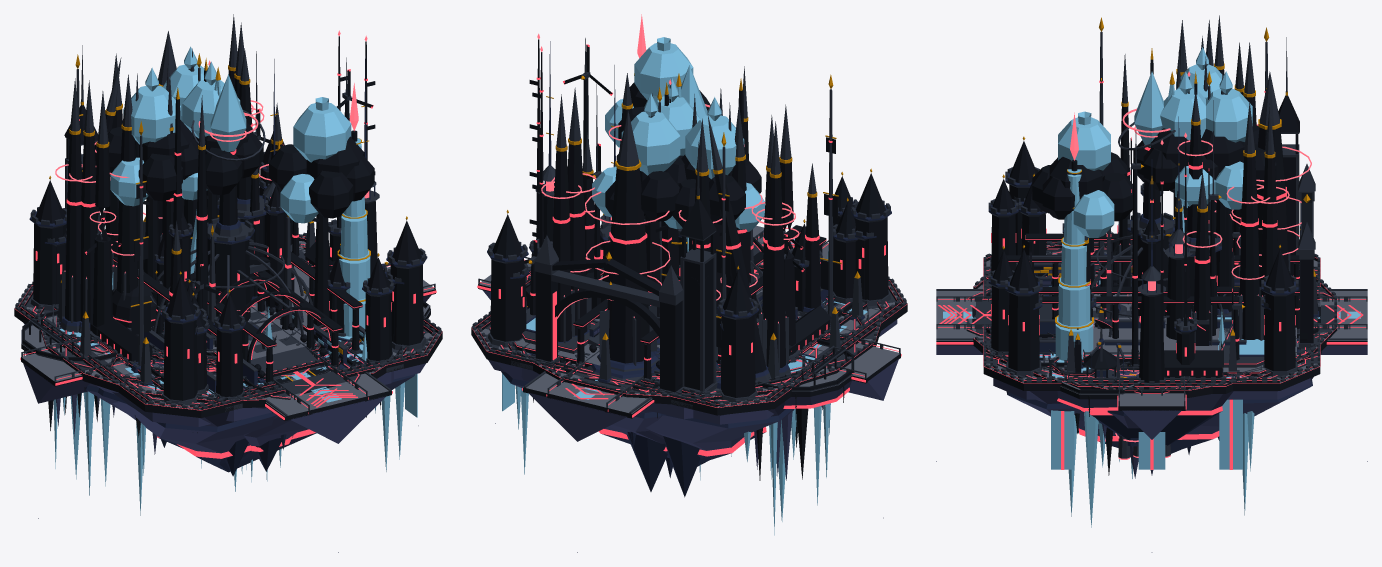
Rendered from SC_RECOLOR_LOCKDOWN.fbx.
The picture shows the model from 3 angles, left to right: view 1: azimuth 30°, elevation 25°; view 2: azimuth 150°, elevation 25°; view 3: azimuth 270°, elevation 25°; orthographic projection. The views are drawn at different scales.
Visible parts, largest first — view 1: chunk_spire_court__lockdown, chunk_sky_tree_grove__lockdown, chunk_boss_clearing__lockdown, chunk_path_colonnade__lockdown, chunk_aether_springs__lockdown, chunk_parade_ground__lockdown, chunk_spire_court_b__lockdown, chunk_path_straight__lockdown, chunk_side_garden__lockdown, chunk_archive__lockdown, chunk_entry__lockdown, chunk_garden_terrace__lockdown (+19 smaller); view 2: chunk_spire_court__lockdown, chunk_boss_clearing__lockdown, chunk_garden_terrace__lockdown, chunk_archive__lockdown, chunk_sky_tree_grove__lockdown, chunk_parade_ground__lockdown, chunk_path_colonnade__lockdown, chunk_armory__lockdown, chunk_spire_court_b__lockdown, chunk_aether_springs__lockdown, chunk_path_long_span__lockdown, chunk_entry__lockdown (+14 smaller); view 3: chunk_spire_court__lockdown, chunk_boss_clearing__lockdown, chunk_aether_springs__lockdown, chunk_garden_terrace__lockdown, chunk_sky_tree_grove__lockdown, chunk_armory__lockdown, chunk_archive__lockdown, chunk_parade_ground__lockdown, chunk_side_garden__lockdown, chunk_spire_court_b__lockdown, chunk_crossroads__lockdown, chunk_path_bend_west__lockdown (+17 smaller).
Part boxes in pixels (x1,y1,x2,y2): chunk_spire_court__lockdown: (14,22,442,472); chunk_sky_tree_grove__lockdown: (107,67,402,473); chunk_boss_clearing__lockdown: (37,31,406,443); chunk_path_colonnade__lockdown: (38,78,360,479); chunk_aether_springs__lockdown: (20,83,425,552); chunk_parade_ground__lockdown: (20,14,436,426); chunk_spire_court_b__lockdown: (52,57,403,471); chunk_path_straight__lockdown: (163,95,333,399); chunk_side_garden__lockdown: (151,61,356,403); chunk_archive__lockdown: (64,45,393,421); chunk_entry__lockdown: (109,74,352,382); chunk_garden_terrace__lockdown: (21,46,430,495); chunk_spire_court__lockdown: (471,87,907,465); chunk_boss_clearing__lockdown: (508,110,884,415); chunk_garden_terrace__lockdown: (560,93,854,505); chunk_archive__lockdown: (520,142,851,435); chunk_sky_tree_grove__lockdown: (512,37,852,418); chunk_parade_ground__lockdown: (477,94,901,424); chunk_path_colonnade__lockdown: (552,121,811,521); chunk_armory__lockdown: (525,132,869,497); chunk_spire_court_b__lockdown: (511,38,869,491); chunk_aether_springs__lockdown: (489,14,901,552); chunk_path_long_span__lockdown: (515,74,864,477); chunk_entry__lockdown: (559,104,830,406); chunk_spire_court__lockdown: (983,42,1367,453); chunk_boss_clearing__lockdown: (936,71,1336,398); chunk_aether_springs__lockdown: (936,112,1367,552); chunk_garden_terrace__lockdown: (984,71,1321,527); chunk_sky_tree_grove__lockdown: (990,47,1312,367); chunk_armory__lockdown: (936,27,1367,445); chunk_archive__lockdown: (936,37,1367,360); chunk_parade_ground__lockdown: (942,103,1365,399); chunk_side_garden__lockdown: (947,71,1215,328); chunk_spire_court_b__lockdown: (984,130,1319,439); chunk_crossroads__lockdown: (937,71,1367,439); chunk_path_bend_west__lockdown: (1096,159,1190,395).
Size of the model in its own units: 256 by 256 by 256.
